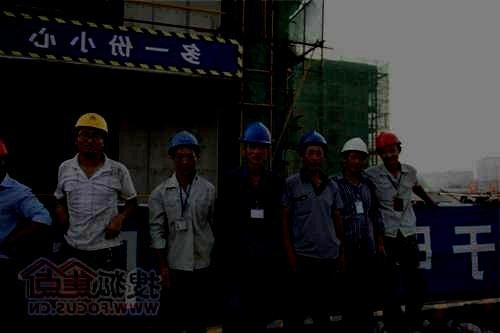helmet: (168, 130, 200, 175), (74, 113, 108, 155), (296, 129, 328, 173), (241, 121, 272, 165), (340, 137, 369, 174), (374, 130, 402, 166), (1, 141, 7, 179)
